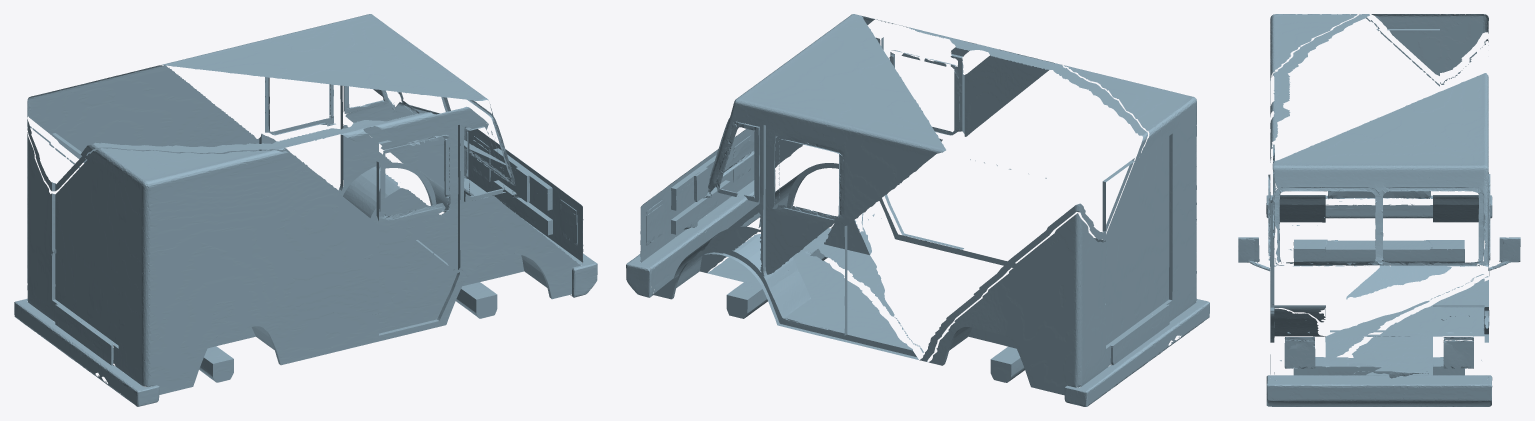
Rendered from tk_volB.glb.
3 renders of one model, left to right at view 1: azimuth 30°, elevation 25°; view 2: azimuth 150°, elevation 25°; view 3: azimuth 270°, elevation 25°, orthographic. The views are drawn at different scales.
Visible parts, largest first — view 1: part0; view 2: part0; view 3: part0.
Boxes of the visible parts, left/top/right/bottom form: part0: left=14, top=14, right=597, bottom=406; part0: left=626, top=14, right=1209, bottom=406; part0: left=1238, top=14, right=1520, bottom=406.
Size of the model in its own units: 0.9983 by 0.4752 by 0.5805.
